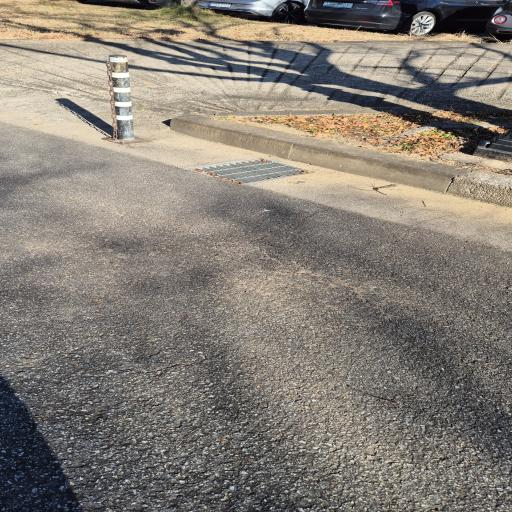drain: (185, 158, 308, 184)
